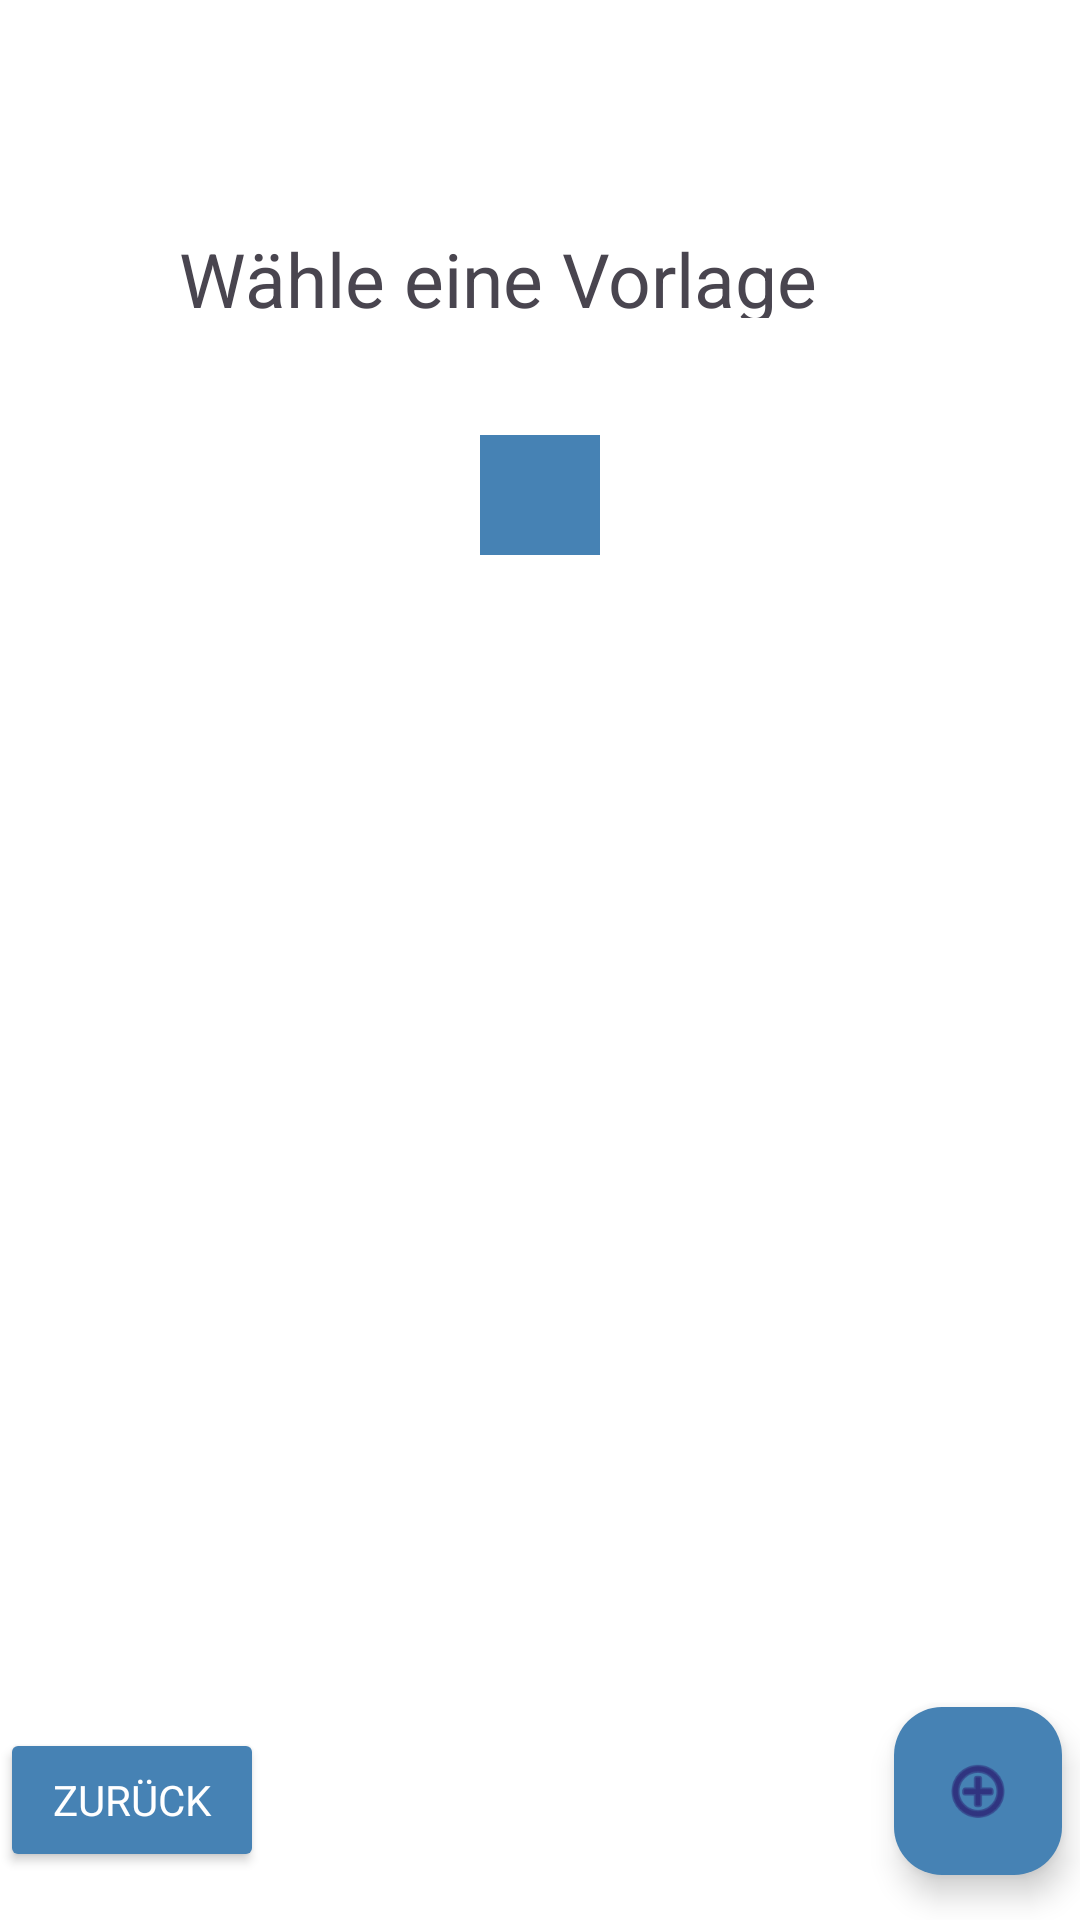

Icon bounding boxes for this 1080*1920 phone screenshot, format {"left": x1, "top": y1, "right": x2, "bottom": y2}:
add: {"left": 894, "top": 1707, "right": 1062, "bottom": 1875}
